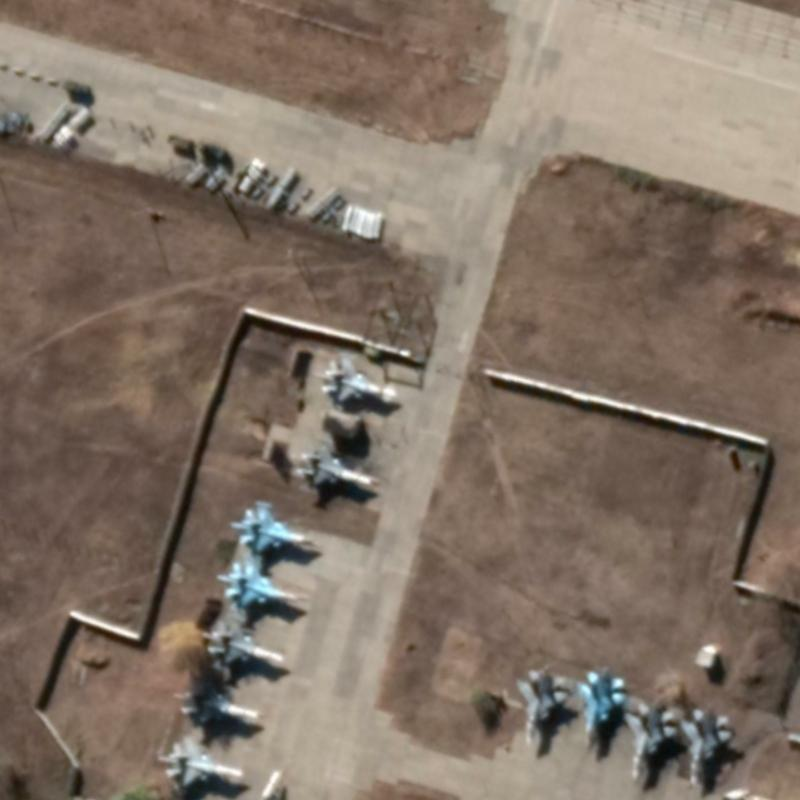A19: (226, 495, 318, 556), (622, 691, 682, 783), (154, 732, 246, 791), (291, 433, 384, 491), (573, 661, 629, 757), (212, 558, 309, 611), (680, 701, 737, 791), (511, 662, 569, 748), (176, 678, 264, 731), (196, 617, 285, 669), (319, 353, 400, 404)
